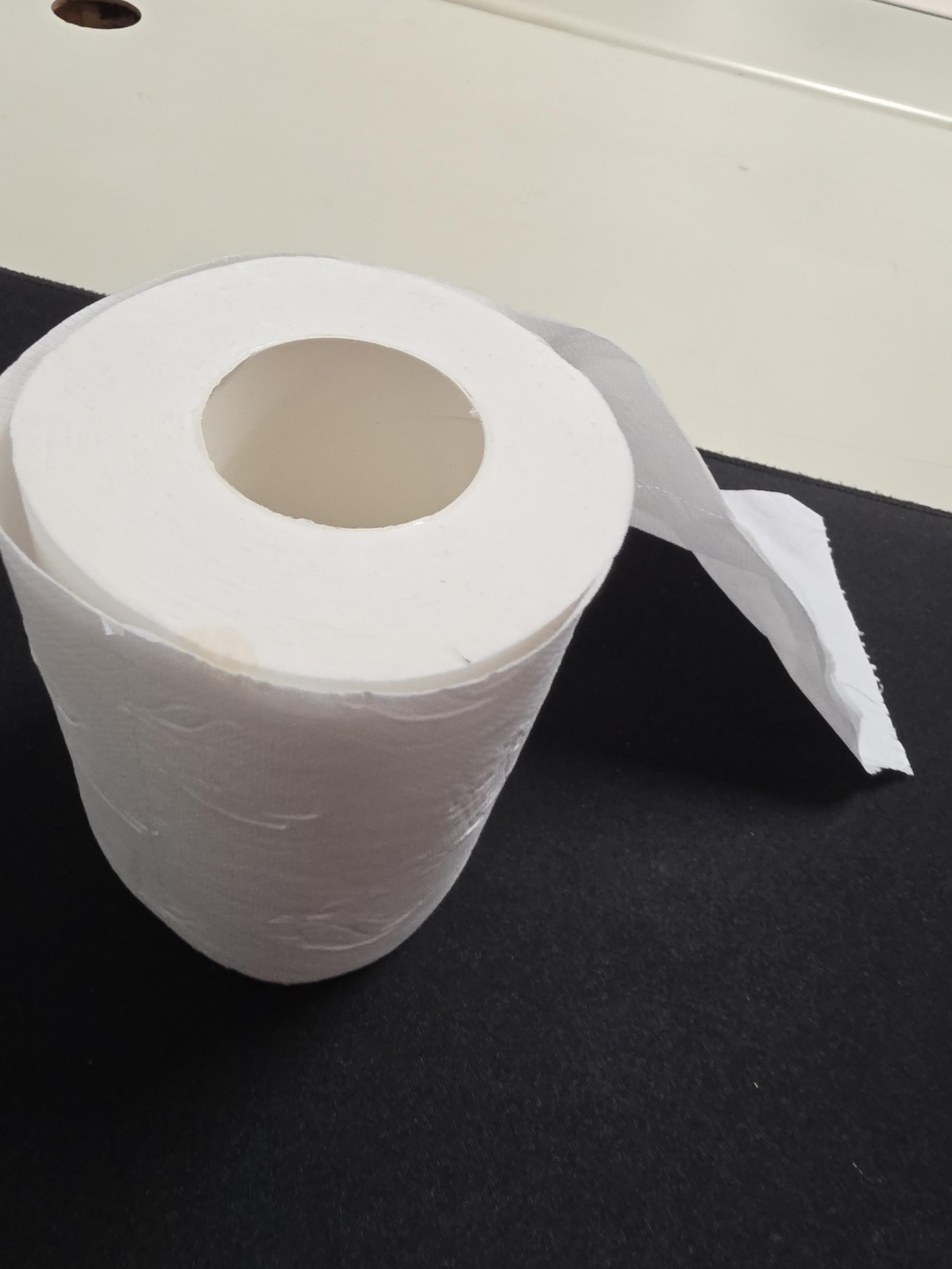tissue: (0, 252, 914, 985)
